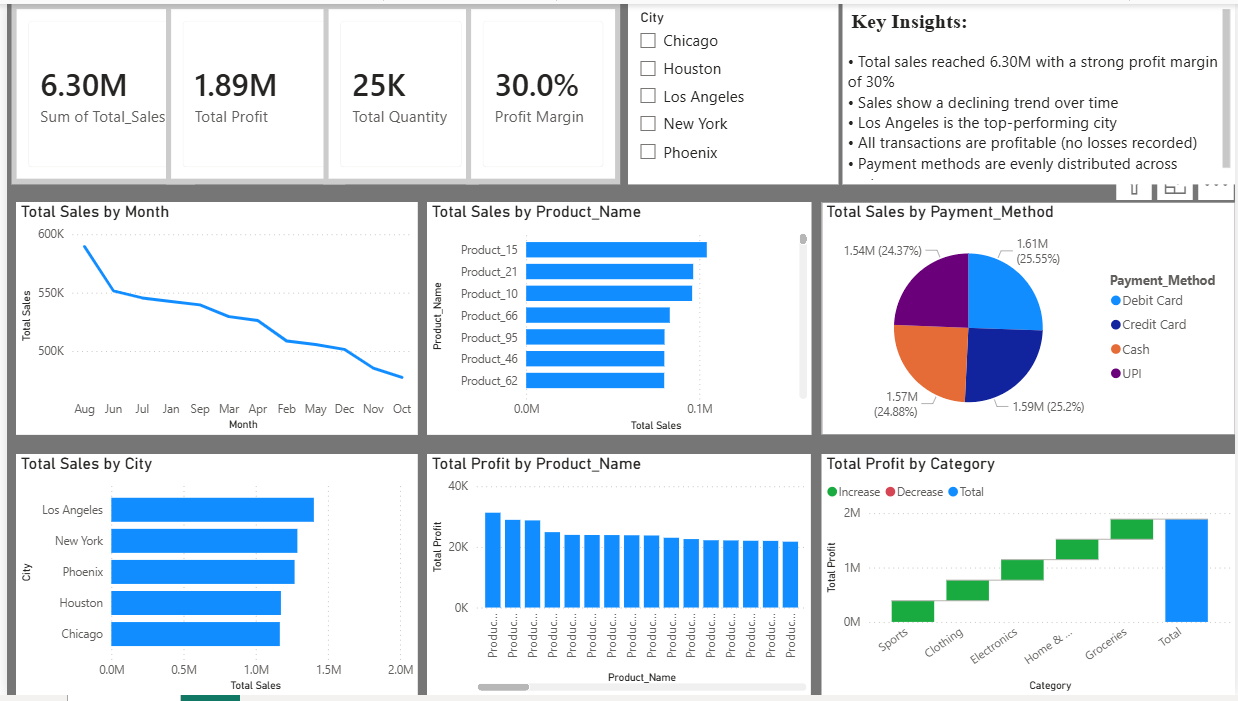

The dashboard page shown, as its layout file describes it:
{"tool":"powerbi","page":{"name":"Page 1","canvas":[1280,720],"ordinal":0},"visuals":[{"type":"cardVisual","fields":{"Data":["Sum(walmart_sales_ cleaned.Total_Sales)"]},"box":[4.1,0,190.7,188],"z":0},{"type":"cardVisual","fields":{"Data":["walmart_sales_ cleaned.Total Profit"]},"box":[166,0,186.6,188],"z":1000},{"type":"cardVisual","fields":{"Data":["walmart_sales_ cleaned.Total Quantity"]},"box":[329.3,0,161.9,188],"z":2000},{"type":"cardVisual","fields":{"Data":["walmart_sales_ cleaned.Profit Margin"]},"box":[478.9,0,160.5,188],"z":3000},{"type":"lineChart","fields":{"Category":["walmart_sales_ cleaned.Month"],"Y":["walmart_sales_ cleaned.Total Sales"]},"box":[9.5,206.3,419,242.6],"z":4000},{"type":"clusteredBarChart","fields":{"Category":["walmart_sales_ cleaned.Product_Name"],"Y":["walmart_sales_ cleaned.Total Sales"]},"box":[438.1,205.8,400.7,242.9],"z":5000},{"type":"pieChart","fields":{"Category":["walmart_sales_ cleaned.Payment_Method"],"Y":["walmart_sales_ cleaned.Total Sales"]},"box":[848.7,206.3,431.4,242.3],"z":6000},{"type":"barChart","fields":{"Category":["walmart_sales_ cleaned.City"],"Y":["walmart_sales_ cleaned.Total Sales"]},"box":[9.4,468.9,418.9,251.6],"z":7000},{"type":"slicer","fields":{"Values":["walmart_sales_ cleaned.City"]},"box":[647.7,0,219.6,188],"z":8000},{"type":"waterfallChart","fields":{"Category":["walmart_sales_ cleaned.Category"],"Y":["walmart_sales_ cleaned.Total Profit"]},"box":[848.7,468.9,431.4,251.6],"z":9000},{"type":"columnChart","fields":{"Category":["walmart_sales_ cleaned.Product_Name"],"Y":["walmart_sales_ cleaned.Total Profit"]},"box":[437.6,468.9,400.1,251.6],"z":10000},{"type":"textbox","box":[871,0,409,188],"z":11000}]}

Visuals, with their boxes in screenshot pixels (x1, y1, x2, y2), scaled from the page's 1280x720 canvas onto the 1238x701 screenshot:
cardVisual - Sum(walmart_sales_ cleaned.Total_Sales): select_region(4, 0, 188, 183)
cardVisual - walmart_sales_ cleaned.Total Profit: select_region(161, 0, 341, 183)
cardVisual - walmart_sales_ cleaned.Total Quantity: select_region(318, 0, 475, 183)
cardVisual - walmart_sales_ cleaned.Profit Margin: select_region(463, 0, 618, 183)
lineChart - walmart_sales_ cleaned.Month x walmart_sales_ cleaned.Total Sales: select_region(9, 201, 414, 437)
clusteredBarChart - walmart_sales_ cleaned.Product_Name x walmart_sales_ cleaned.Total Sales: select_region(424, 200, 811, 437)
pieChart - walmart_sales_ cleaned.Payment_Method x walmart_sales_ cleaned.Total Sales: select_region(821, 201, 1237, 437)
barChart - walmart_sales_ cleaned.City x walmart_sales_ cleaned.Total Sales: select_region(9, 457, 414, 700)
slicer - walmart_sales_ cleaned.City: select_region(626, 0, 839, 183)
waterfallChart - walmart_sales_ cleaned.Category x walmart_sales_ cleaned.Total Profit: select_region(821, 457, 1237, 700)
columnChart - walmart_sales_ cleaned.Product_Name x walmart_sales_ cleaned.Total Profit: select_region(423, 457, 810, 700)
textbox: select_region(842, 0, 1237, 183)
